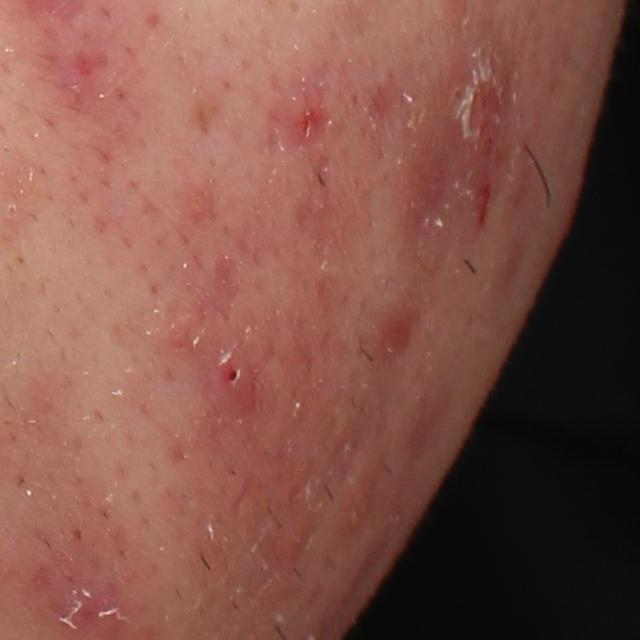papule: (211, 337, 256, 401), (291, 86, 329, 146)
